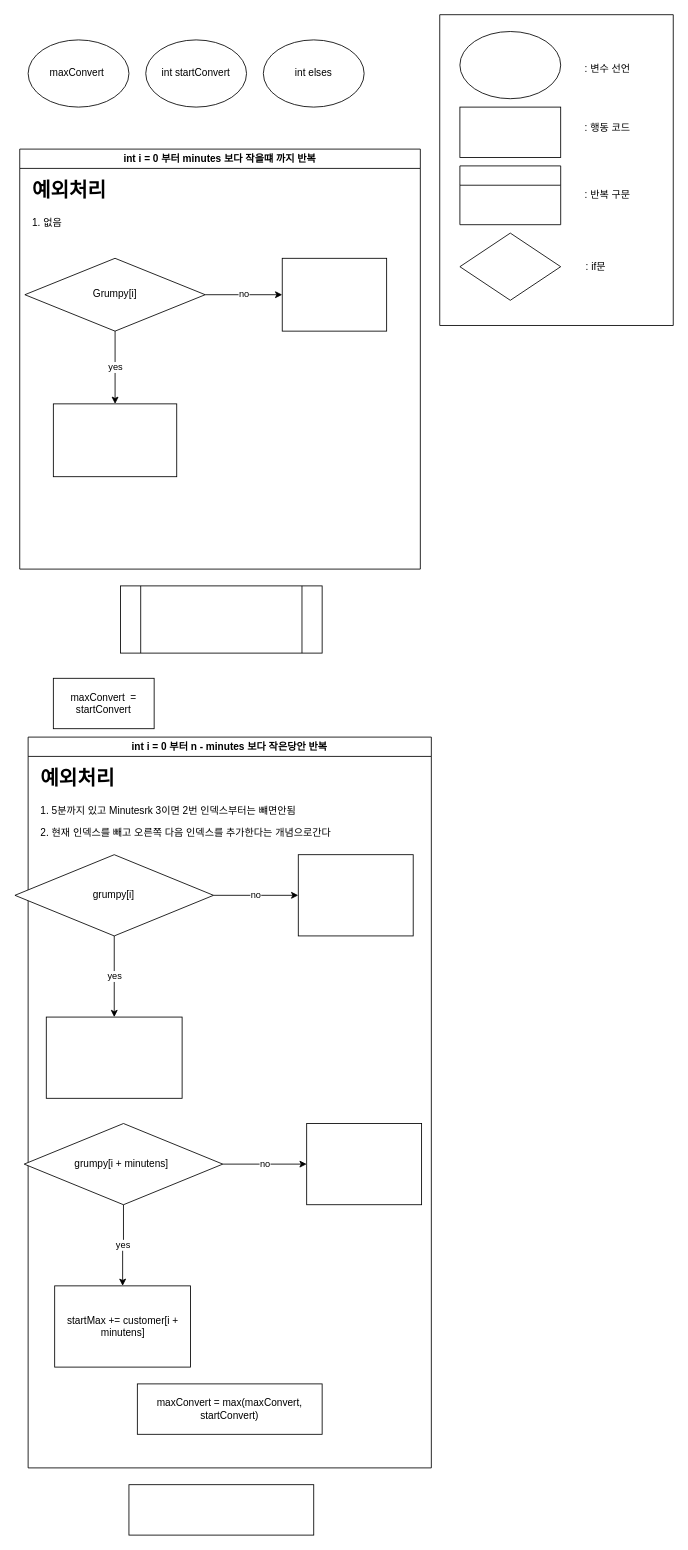
This 688x1550 diagram has some shape labels left out. The shapes that lost their labels are listed below. From the top down, each one's box as (x1, y1, x2, y2) in pixels, then its label:
(459, 165, 561, 225): ~ 동안
(281, 257, 387, 331): elses += customers[i]
(52, 403, 177, 477): startConvert += customer[i]
(120, 585, 322, 653): minutes부터 끝까지 grumpy가 0인 값을 elses 에 추가
(45, 1016, 182, 1098): startMax -= customer[i]
(128, 1484, 314, 1535): return maxConvert + elses
